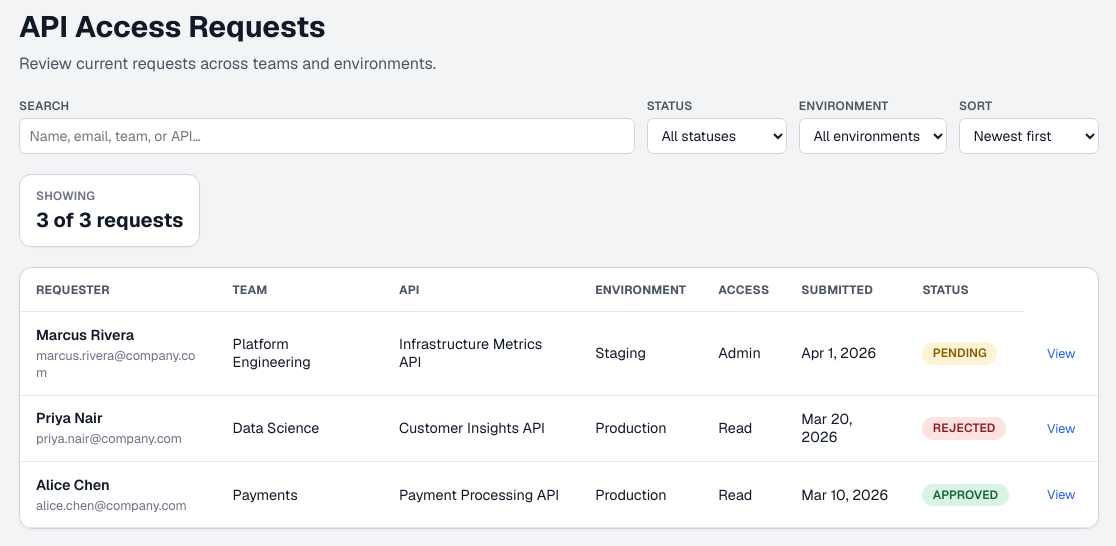
Test: RequestsDashboard filtered-empty state › shows a no-matches message and restores the full list after clearing filters
Type "nobody-matches-this" into the search field labelled "Search" at (327, 136), box [19,118,635,154]
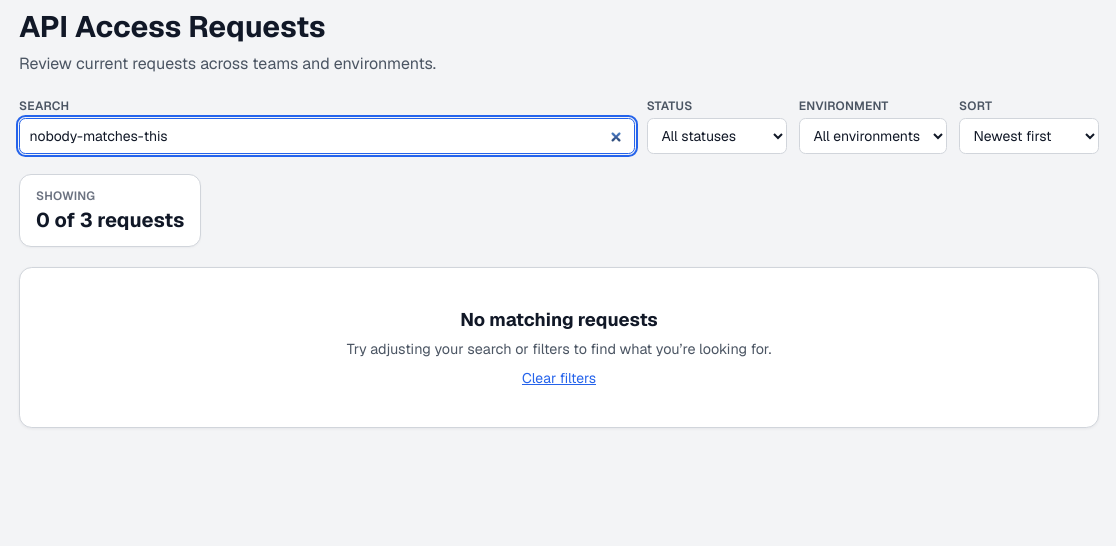
Expected: the heading "No matching requests" is shown, [460,308,658,331]
Click the button "Clear filters" at (559, 378), box [522,369,596,387]
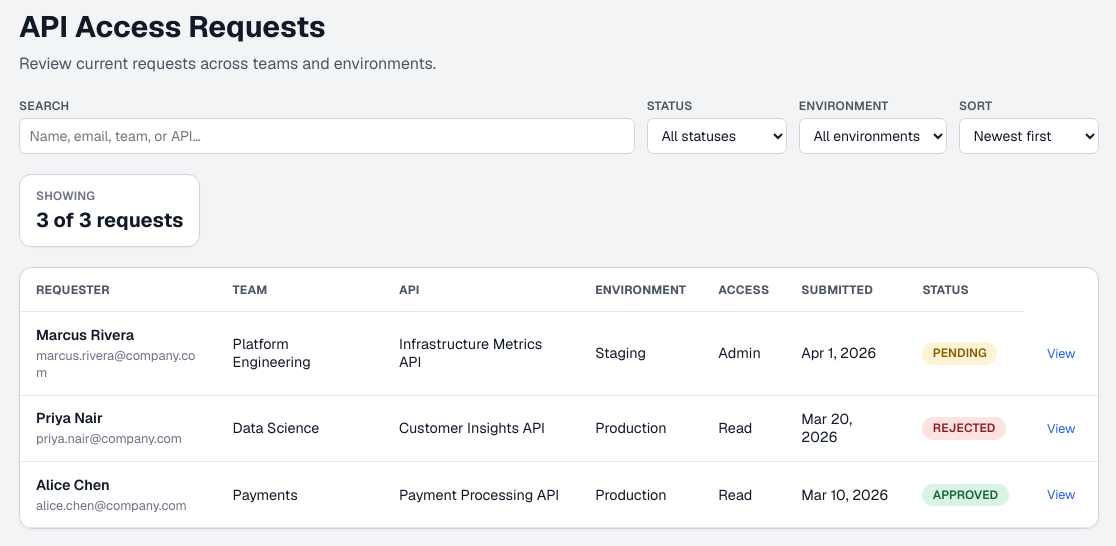
Expected: the heading "No matching requests" is gone
Expected: the text "Alice Chen" is shown, [36,476,110,494]
Expected: the text "Marcus Rivera" is shown, [36,326,134,344]
